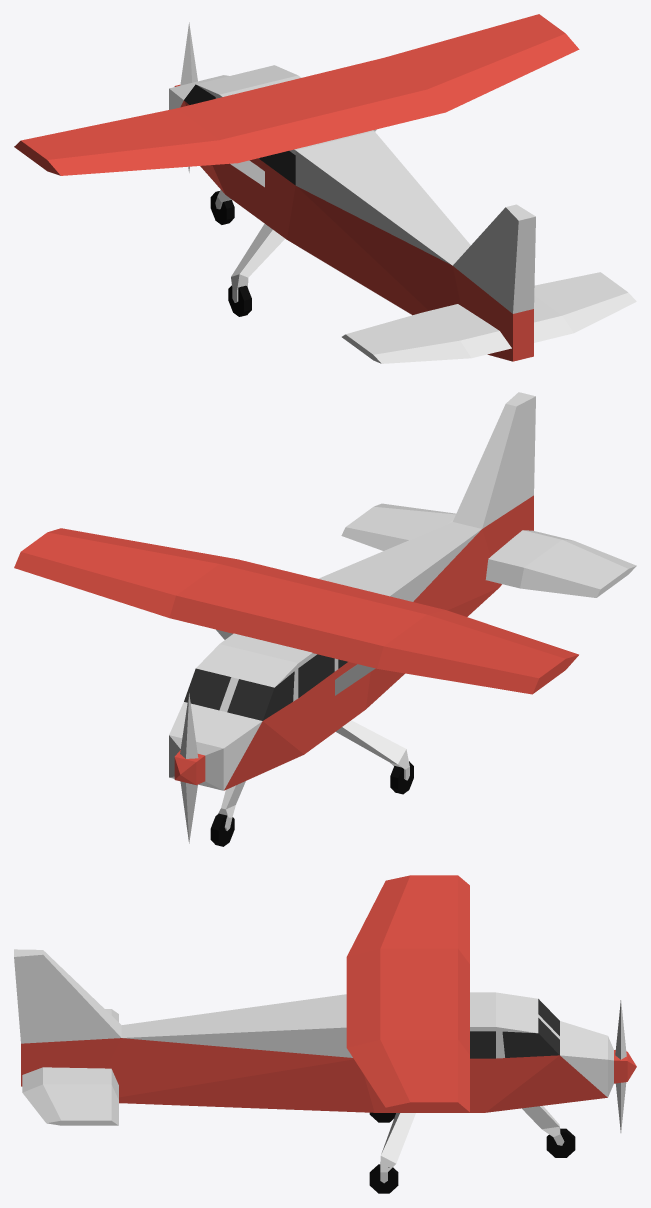
3 renders of one model, top to bottom at view 1: azimuth 30°, elevation 25°; view 2: azimuth 150°, elevation 25°; view 3: azimuth 270°, elevation 25°, orthographic. The views are drawn at different scales.
Visible parts, largest first — view 1: Body, Wing, Tail, WheelHolder.001, Propeller, Wheel.001, Wheel; view 2: Body, Wing, Tail, WheelHolder.001, Propeller; view 3: Body, Wing, Tail, WheelHolder.002, Propeller, WheelHolder, Wheel, Wheel.002.
Part boxes in pixels (x1,y1,x2,y2): Body: (169,65,535,361); Wing: (14,14,579,187); Tail: (342,272,636,363); WheelHolder.001: (231,223,284,302); Propeller: (180,22,197,172); Wheel.001: (228,285,251,316); Wheel: (210,191,234,224); Body: (169,392,535,790); Wing: (14,528,578,695); Tail: (341,503,636,597); WheelHolder.001: (336,720,409,780); Propeller: (180,693,198,843); Body: (14,949,636,1112); Wing: (346,875,469,1112); Tail: (22,1009,118,1125); WheelHolder.002: (380,1113,415,1183); Propeller: (615,1000,626,1132); WheelHolder: (522,1106,564,1145); Wheel: (546,1128,575,1157); Wheel.002: (369,1164,398,1193).
Size of the model in its own units: 1.79 by 0.7508 by 2.08.
